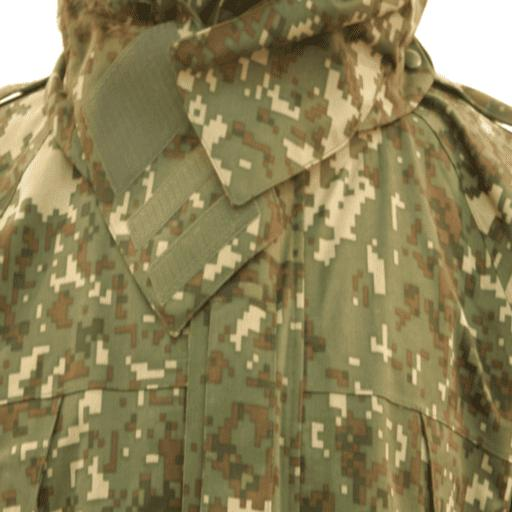korea army: (0, 0, 510, 510)
